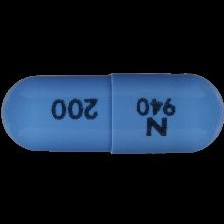10544-101: (0, 0, 224, 224)
